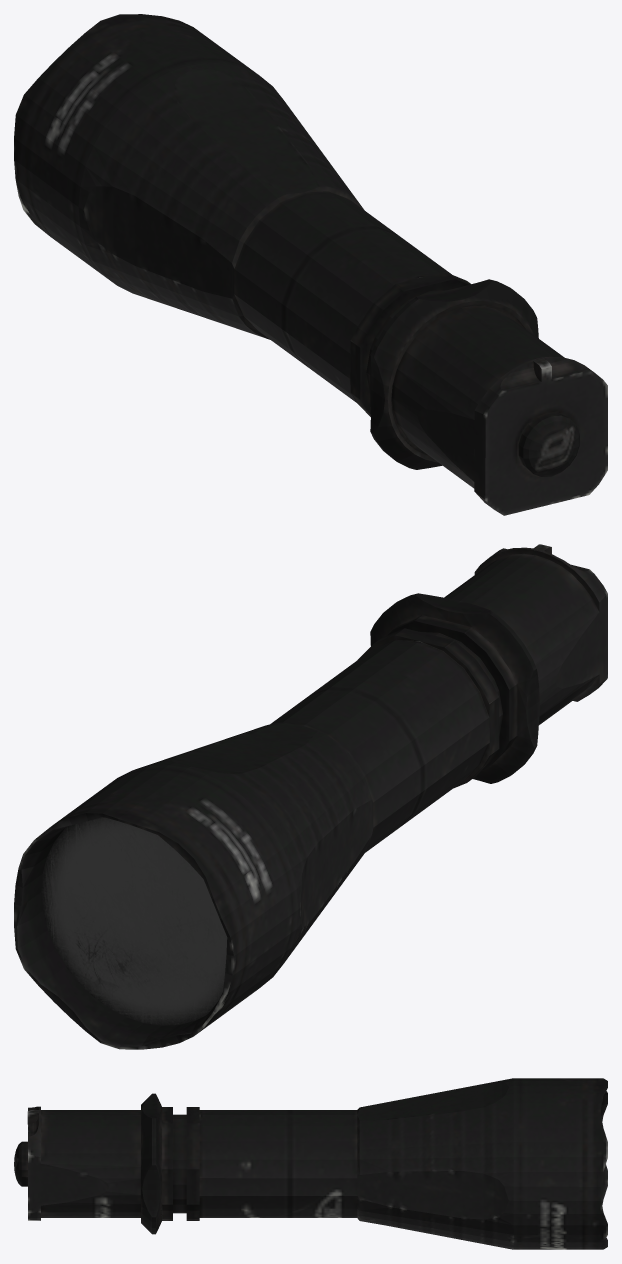
3 views of the same model, one above another, from view 1: azimuth 30°, elevation 25°; view 2: azimuth 150°, elevation 25°; view 3: azimuth 270°, elevation 25° (orthographic). The views are drawn at different scales.
Parts seen in each view (by area): view 1: TW_59d790f486f77403cb06aec6_PZ_Import; view 2: TW_59d790f486f77403cb06aec6_PZ_Import; view 3: TW_59d790f486f77403cb06aec6_PZ_Import.
Boxes of the visible parts, x1=… form: TW_59d790f486f77403cb06aec6_PZ_Import: x1=14, y1=14, x2=607, y2=515; TW_59d790f486f77403cb06aec6_PZ_Import: x1=14, y1=544, x2=607, y2=1049; TW_59d790f486f77403cb06aec6_PZ_Import: x1=14, y1=1078, x2=607, y2=1249.
Bounding box in the file's own units: 0.0228 × 0.0788 × 0.0228.
1 material, 1 textured.
